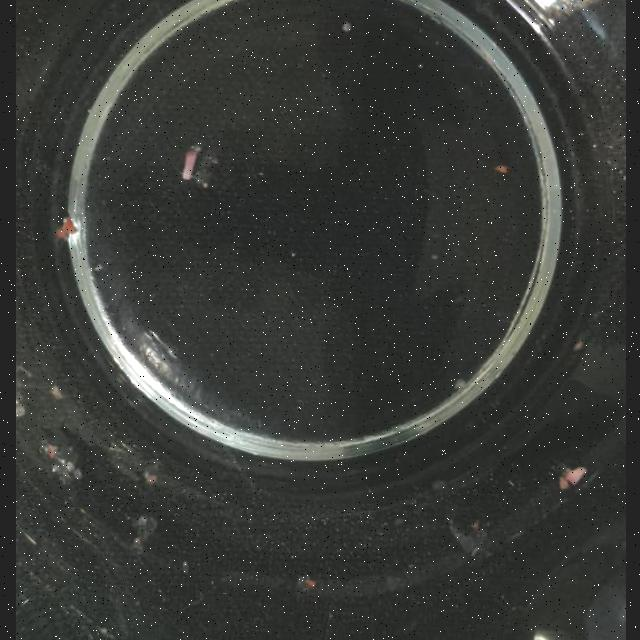Fragment: (39, 439, 83, 485), (180, 144, 218, 188), (452, 519, 488, 557), (130, 514, 156, 554), (56, 214, 80, 242), (556, 464, 584, 488), (296, 576, 316, 592), (44, 444, 56, 460)
microbeads: (49, 384, 62, 400), (452, 378, 466, 392), (144, 472, 156, 486), (494, 164, 508, 173), (470, 520, 480, 532), (572, 340, 584, 350), (181, 560, 189, 574), (341, 22, 351, 32), (93, 263, 103, 271), (290, 252, 296, 258)
